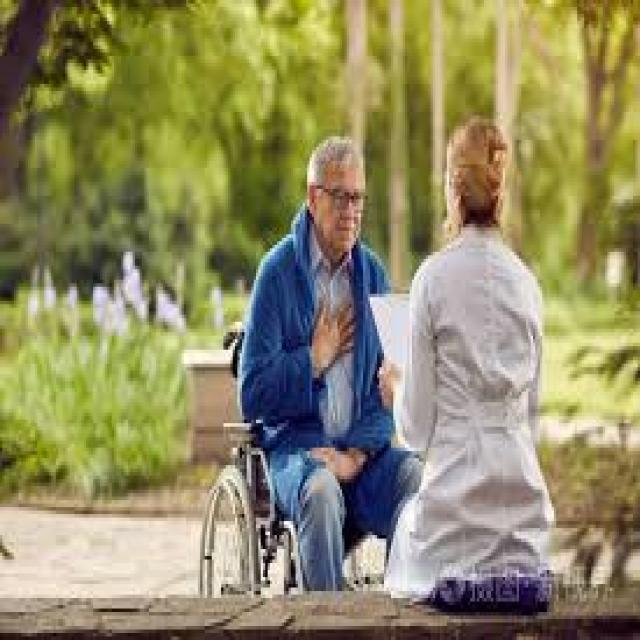wheelchairs: (193, 311, 393, 588)
